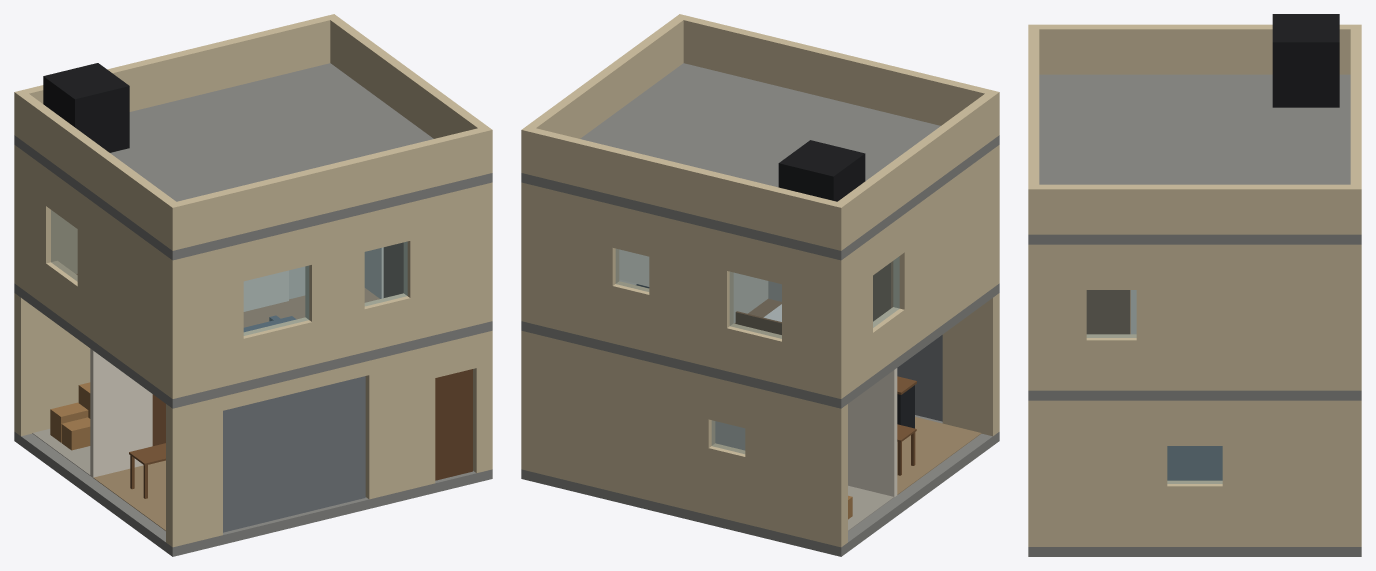
File: shinde-tea-stall.glb
3 views of the same model, side by side, from view 1: azimuth 30°, elevation 25°; view 2: azimuth 150°, elevation 25°; view 3: azimuth 270°, elevation 25° (orthographic). The views are drawn at different scales.
Visible parts, largest first — view 1: roof_slab, door_f0_stall_front_leaf, roof_parapet_s, wall_ext_west_f1_seg4, wall_ext_south_f1_seg8, wall_ext_south_f1_seg0, roof_parapet_n, wall_ext_south_f0_seg3, wall_ext_south_f0_seg0, roof_parapet_w, wall_ext_south_f1_seg4, wall_ext_north_f0_seg0 (+29 smaller); view 2: roof_slab, wall_ext_north_f0_seg4, roof_parapet_n, wall_ext_north_f0_seg0, roof_parapet_s, wall_ext_north_f1_seg8, wall_ext_west_f1_seg4, wall_ext_north_f1_seg4, wall_ext_north_f1_seg0, roof_parapet_w, roof_parapet_e, wall_ext_south_f0_seg0 (+27 smaller); view 3: roof_slab, wall_ext_east_f1_seg0, wall_ext_east_f0_seg0, wall_ext_east_f0_seg4, roof_parapet_e, roof_parapet_w, wall_ext_east_f1_seg4, roof_water_tank_tank, wall_ext_east_f0_sill1, slab_f1, slab_f0, wall_ext_east_f1_sill1 (+12 smaller).
Boxes of the visible parts, x1=… form: roof_slab: x1=14, y1=63, x2=492, y2=260; door_f0_stall_front_leaf: x1=223, y1=376, x2=365, y2=532; roof_parapet_s: x1=167, y1=126, x2=492, y2=250; wall_ext_west_f1_seg4: x1=77, y1=191, x2=165, y2=393; wall_ext_south_f1_seg8: x1=403, y1=182, x2=492, y2=340; wall_ext_south_f1_seg0: x1=166, y1=243, x2=243, y2=398; roof_parapet_n: x1=14, y1=14, x2=339, y2=138; wall_ext_south_f0_seg3: x1=365, y1=345, x2=435, y2=499; wall_ext_south_f0_seg0: x1=166, y1=396, x2=222, y2=547; roof_parapet_w: x1=19, y1=93, x2=176, y2=246; wall_ext_south_f1_seg4: x1=305, y1=213, x2=364, y2=364; wall_ext_north_f0_seg0: x1=14, y1=293, x2=90, y2=436; roof_slab: x1=521, y1=63, x2=999, y2=260; wall_ext_north_f0_seg4: x1=521, y1=330, x2=715, y2=514; roof_parapet_n: x1=521, y1=126, x2=846, y2=250; wall_ext_north_f0_seg0: x1=745, y1=385, x2=847, y2=547; roof_parapet_s: x1=674, y1=14, x2=999, y2=138; wall_ext_north_f1_seg8: x1=521, y1=182, x2=619, y2=343; wall_ext_west_f1_seg4: x1=893, y1=149, x2=992, y2=352; wall_ext_north_f1_seg4: x1=649, y1=213, x2=733, y2=371; wall_ext_north_f1_seg0: x1=782, y1=246, x2=847, y2=398; roof_parapet_w: x1=837, y1=93, x2=994, y2=246; roof_parapet_e: x1=527, y1=18, x2=683, y2=138; wall_ext_south_f0_seg0: x1=942, y1=293, x2=999, y2=436; roof_slab: x1=1028, y1=74, x2=1361, y2=244; wall_ext_east_f1_seg0: x1=1136, y1=244, x2=1347, y2=390; wall_ext_east_f0_seg0: x1=1222, y1=400, x2=1347, y2=546; wall_ext_east_f0_seg4: x1=1042, y1=400, x2=1167, y2=546; roof_parapet_e: x1=1039, y1=184, x2=1350, y2=234; roof_parapet_w: x1=1039, y1=24, x2=1350, y2=74; wall_ext_east_f1_seg4: x1=1042, y1=244, x2=1086, y2=390; roof_water_tank_tank: x1=1272, y1=14, x2=1339, y2=107; wall_ext_east_f0_sill1: x1=1167, y1=480, x2=1222, y2=546; slab_f1: x1=1028, y1=390, x2=1361, y2=400; slab_f0: x1=1028, y1=547, x2=1361, y2=556; wall_ext_east_f1_sill1: x1=1086, y1=334, x2=1136, y2=390.
Bounding box in the file's own units: 7 × 7.7 × 6.
